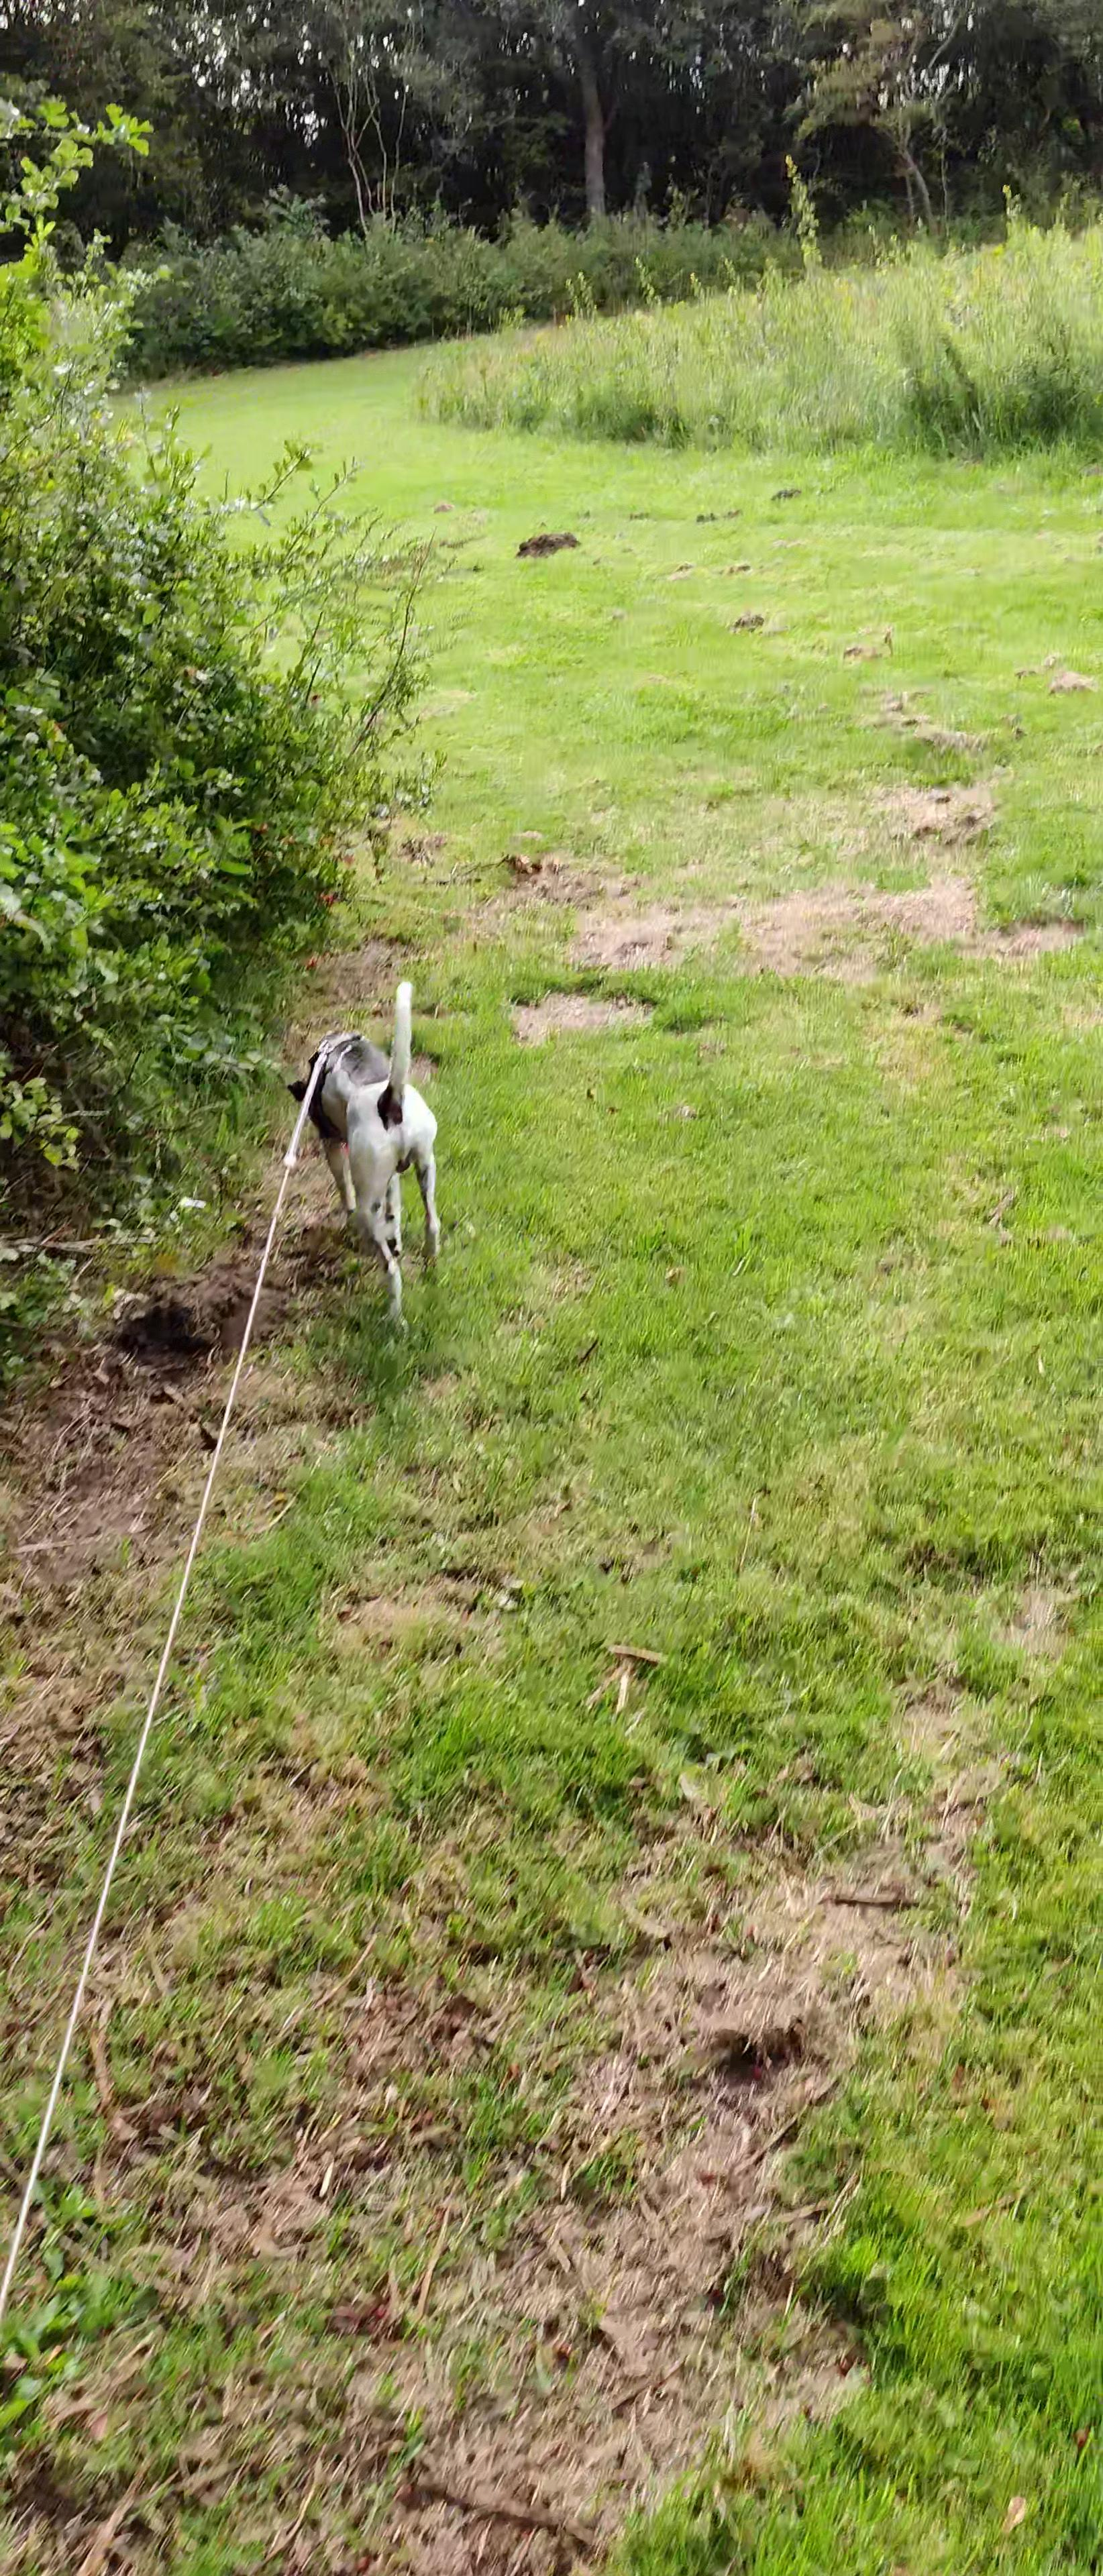Dog: (279, 973, 457, 1336)
